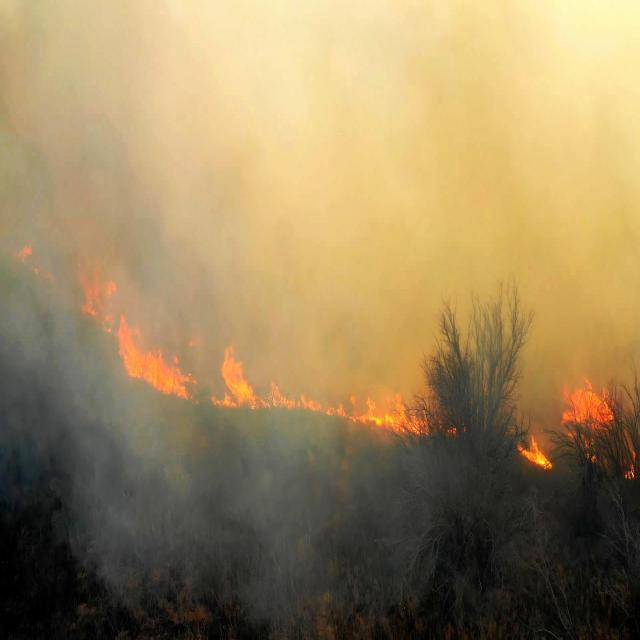Fire: (119, 319, 466, 443), (563, 370, 640, 484), (52, 260, 118, 336), (220, 343, 260, 413), (519, 426, 554, 474)
Smoke: (1, 2, 640, 248), (119, 447, 443, 626), (122, 248, 640, 328), (0, 260, 59, 519), (61, 336, 118, 570), (473, 336, 564, 424)
